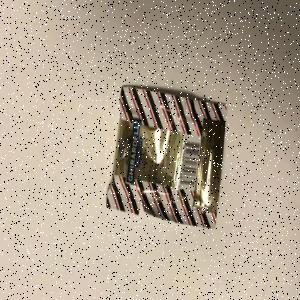Trash: (106, 86, 228, 230)
